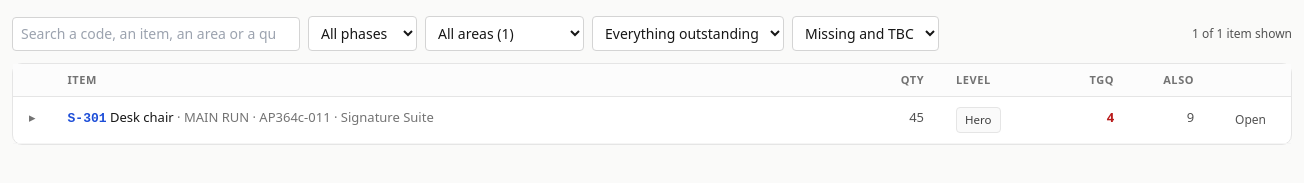
Test: InfillTable › says so when the filters match nothing at all
Type "nothing like this" into the search field named "Search what is outstanding".
click(156, 34); type("nothing like this")  # box [12,16,300,50]
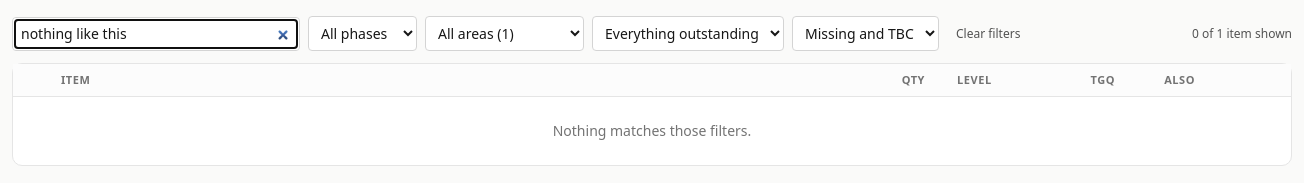
Result: the text "Nothing matches those filters." is shown at [13,96,1291,165]
